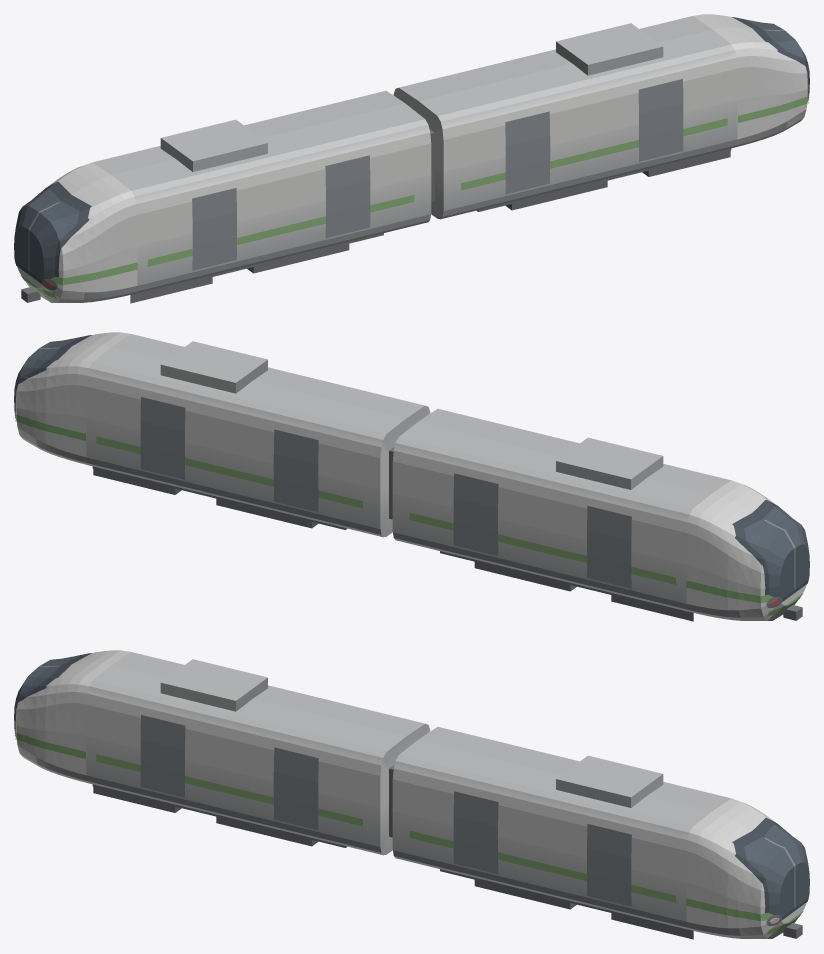
The model's file is 06_more_transit_3x2-03.glb.
3 renders of one model, top to bottom at view 1: azimuth 30°, elevation 25°; view 2: azimuth 150°, elevation 25°; view 3: azimuth 330°, elevation 25°, orthographic.
Size of the model in its own units: 22.68 by 3.48 by 2.64.
